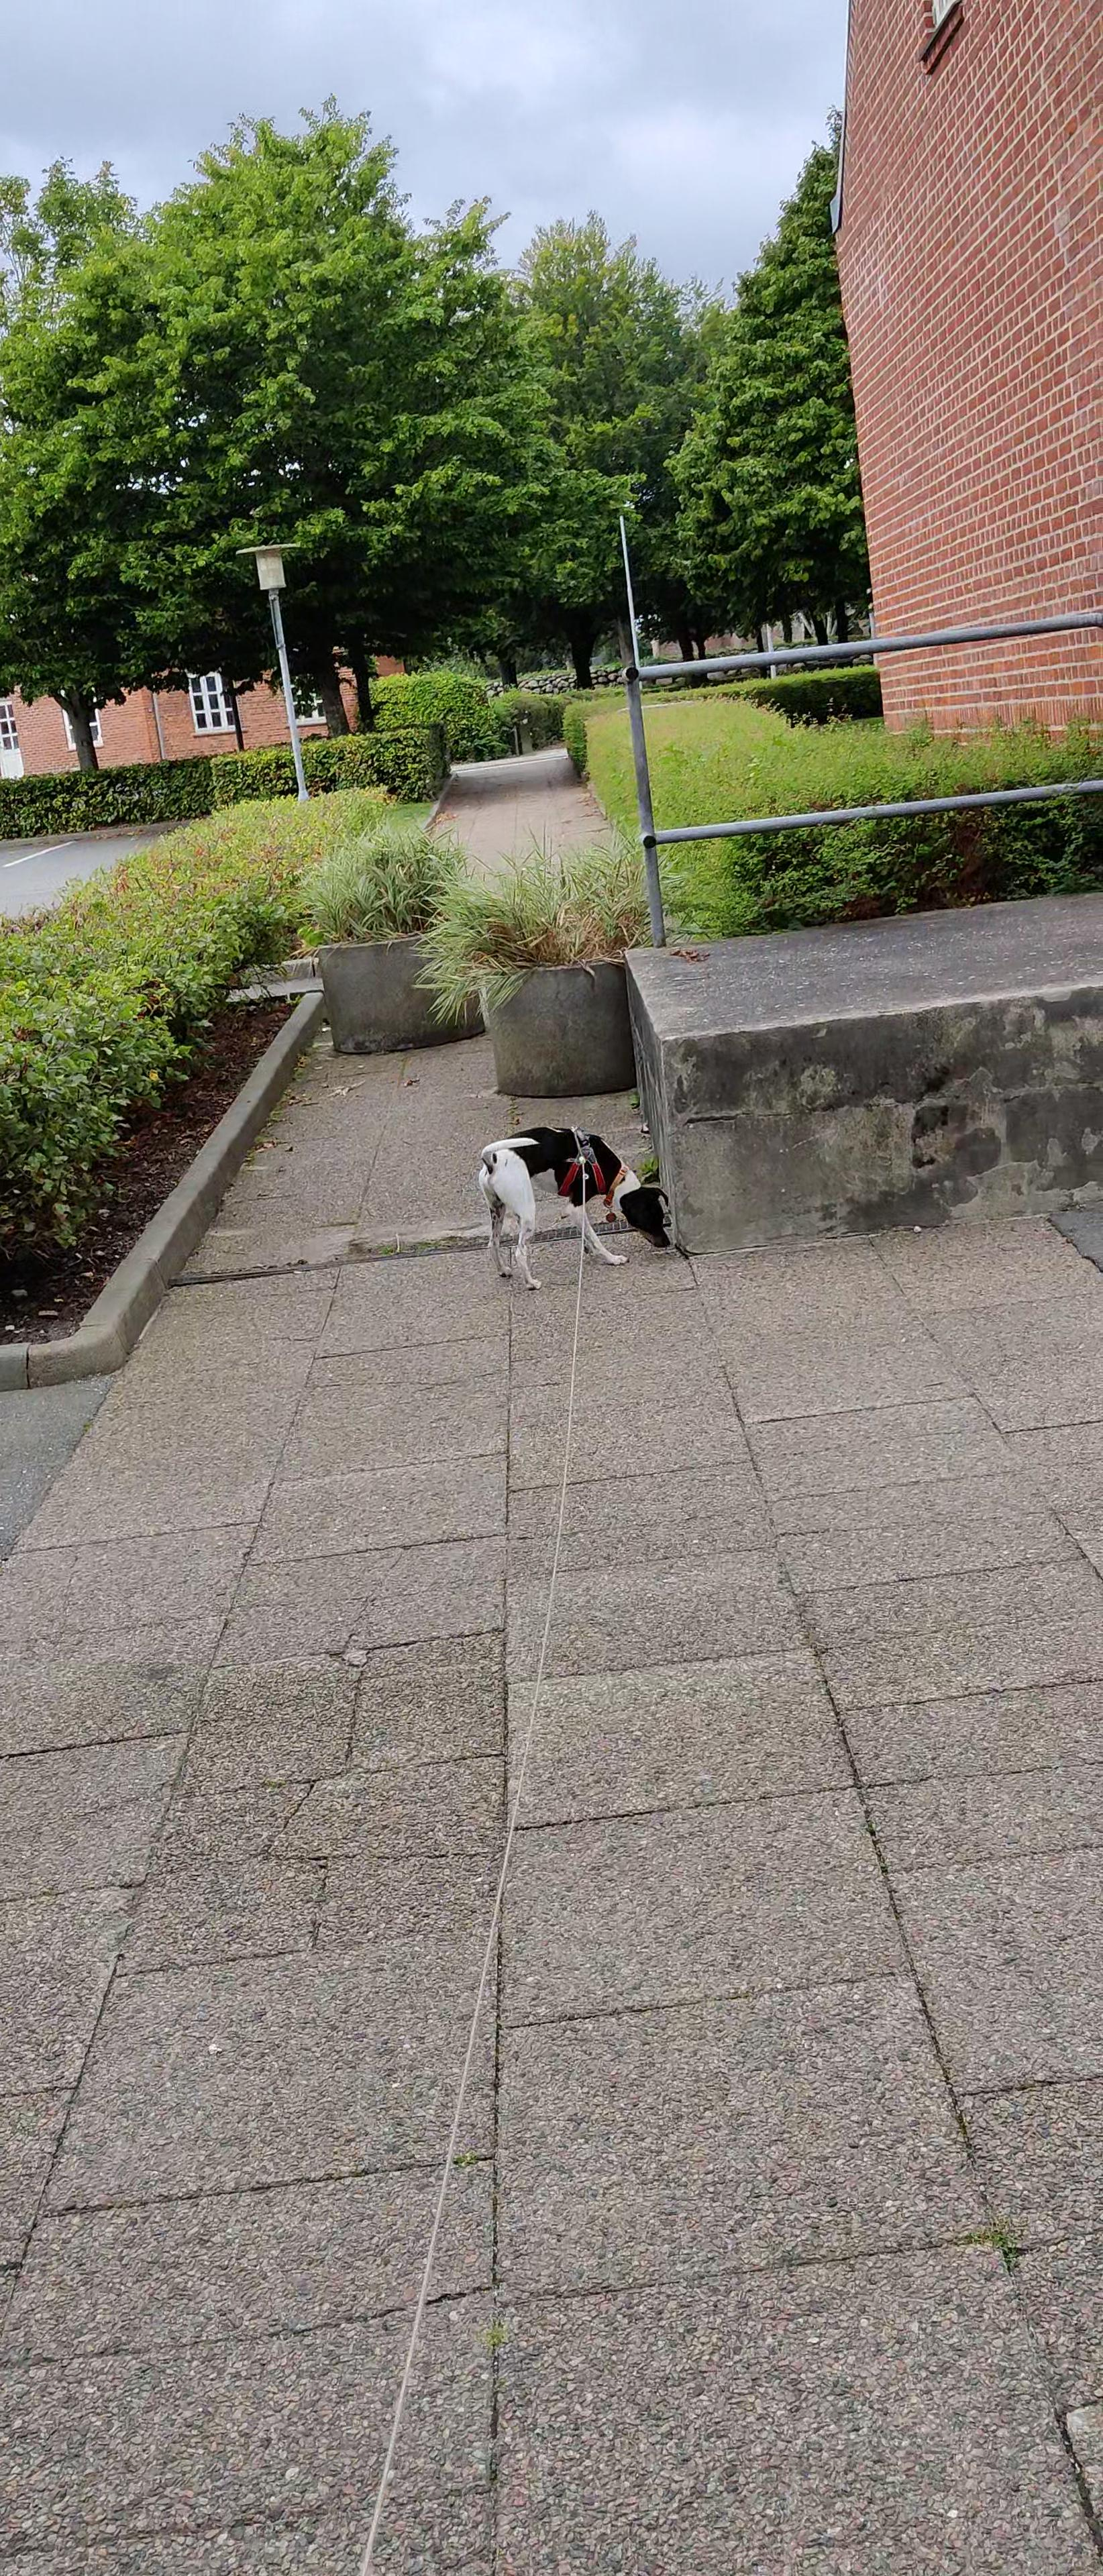Dog: (467, 1112, 677, 1301)
